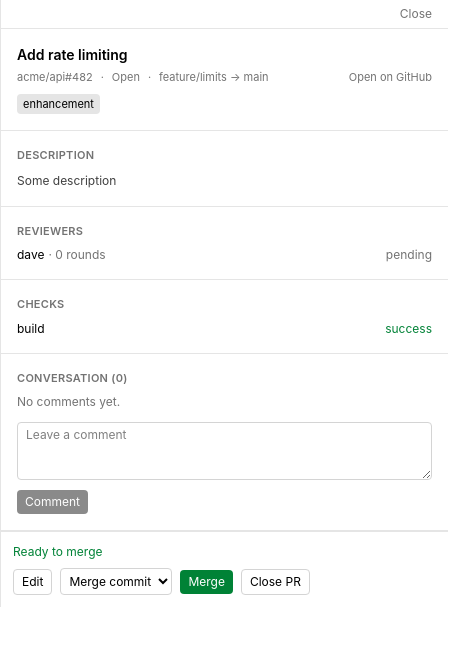
Test: PrDetail › surfaces a rejected mutation instead of failing silently
The width and height of the screenshot is (465, 648).
Expected: the heading "Add rate limiting" is shown, top-left (17, 46), bottom-right (128, 63)
Click the button "Merge" at (207, 582), box top-left (180, 570), bottom-right (233, 594)
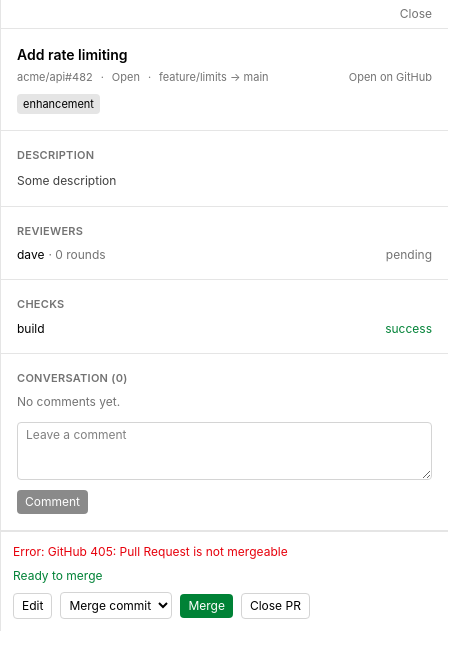
Result: the message shows "Pull Request is not mergeable" at top-left (13, 544), bottom-right (288, 559)
